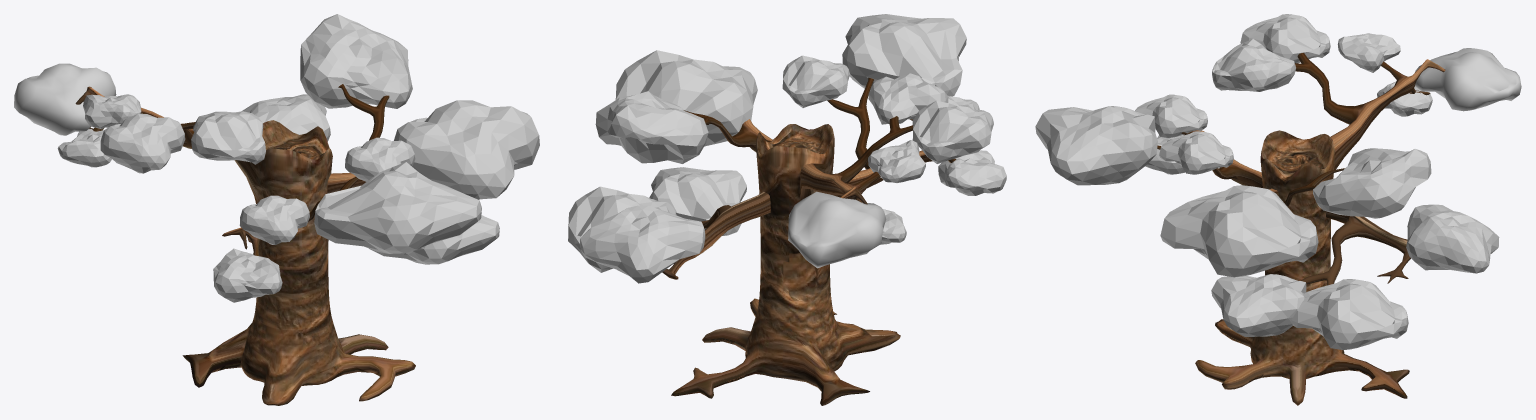
The model's file is Arbre2.FBX.
The picture shows the model from 3 angles, left to right: view 1: azimuth 30°, elevation 25°; view 2: azimuth 150°, elevation 25°; view 3: azimuth 270°, elevation 25°; orthographic projection. The views are drawn at different scales.
Parts seen in each view (by area): view 1: Feuilles arbre, Tube001, Tube002, Tube003; view 2: Feuilles arbre, Tube001, Tube004, Tube003, Tube002; view 3: Feuilles arbre, Tube001, Tube004, Tube003, Tube002.
Part boxes in pixels (bbox=[...]): Feuilles arbre: bbox=[14, 14, 539, 302]; Tube001: bbox=[75, 86, 415, 405]; Tube002: bbox=[327, 84, 389, 193]; Tube003: bbox=[222, 177, 359, 255]; Feuilles arbre: bbox=[568, 14, 1006, 283]; Tube001: bbox=[671, 116, 913, 405]; Tube004: bbox=[662, 192, 770, 279]; Tube003: bbox=[827, 77, 956, 197]; Tube002: bbox=[684, 110, 772, 151]; Feuilles arbre: bbox=[1035, 14, 1521, 350]; Tube001: bbox=[1195, 52, 1445, 405]; Tube004: bbox=[1301, 211, 1410, 285]; Tube003: bbox=[1157, 130, 1262, 187]; Tube002: bbox=[1269, 168, 1344, 206].
Bounding box in the file's own units: 311 × 224 × 351.
